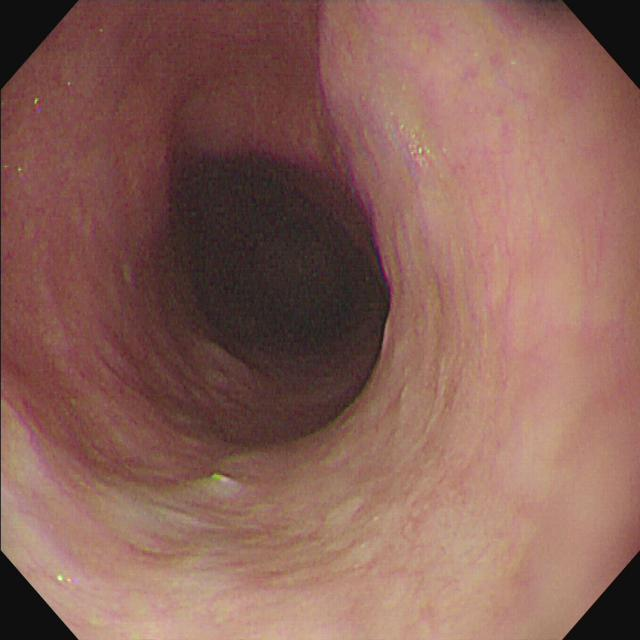E: (187, 176, 370, 346)
